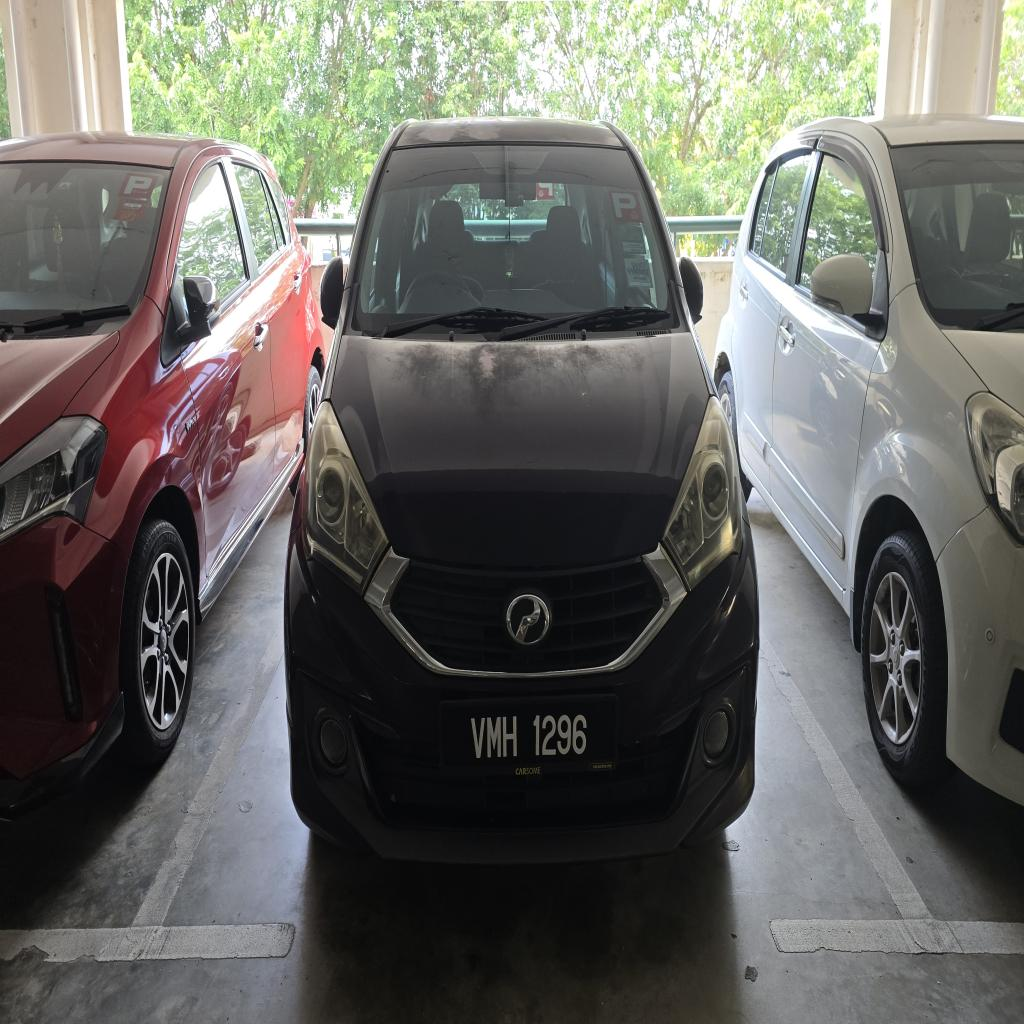car: (285, 119, 758, 862)
car plate: (442, 696, 616, 777)
